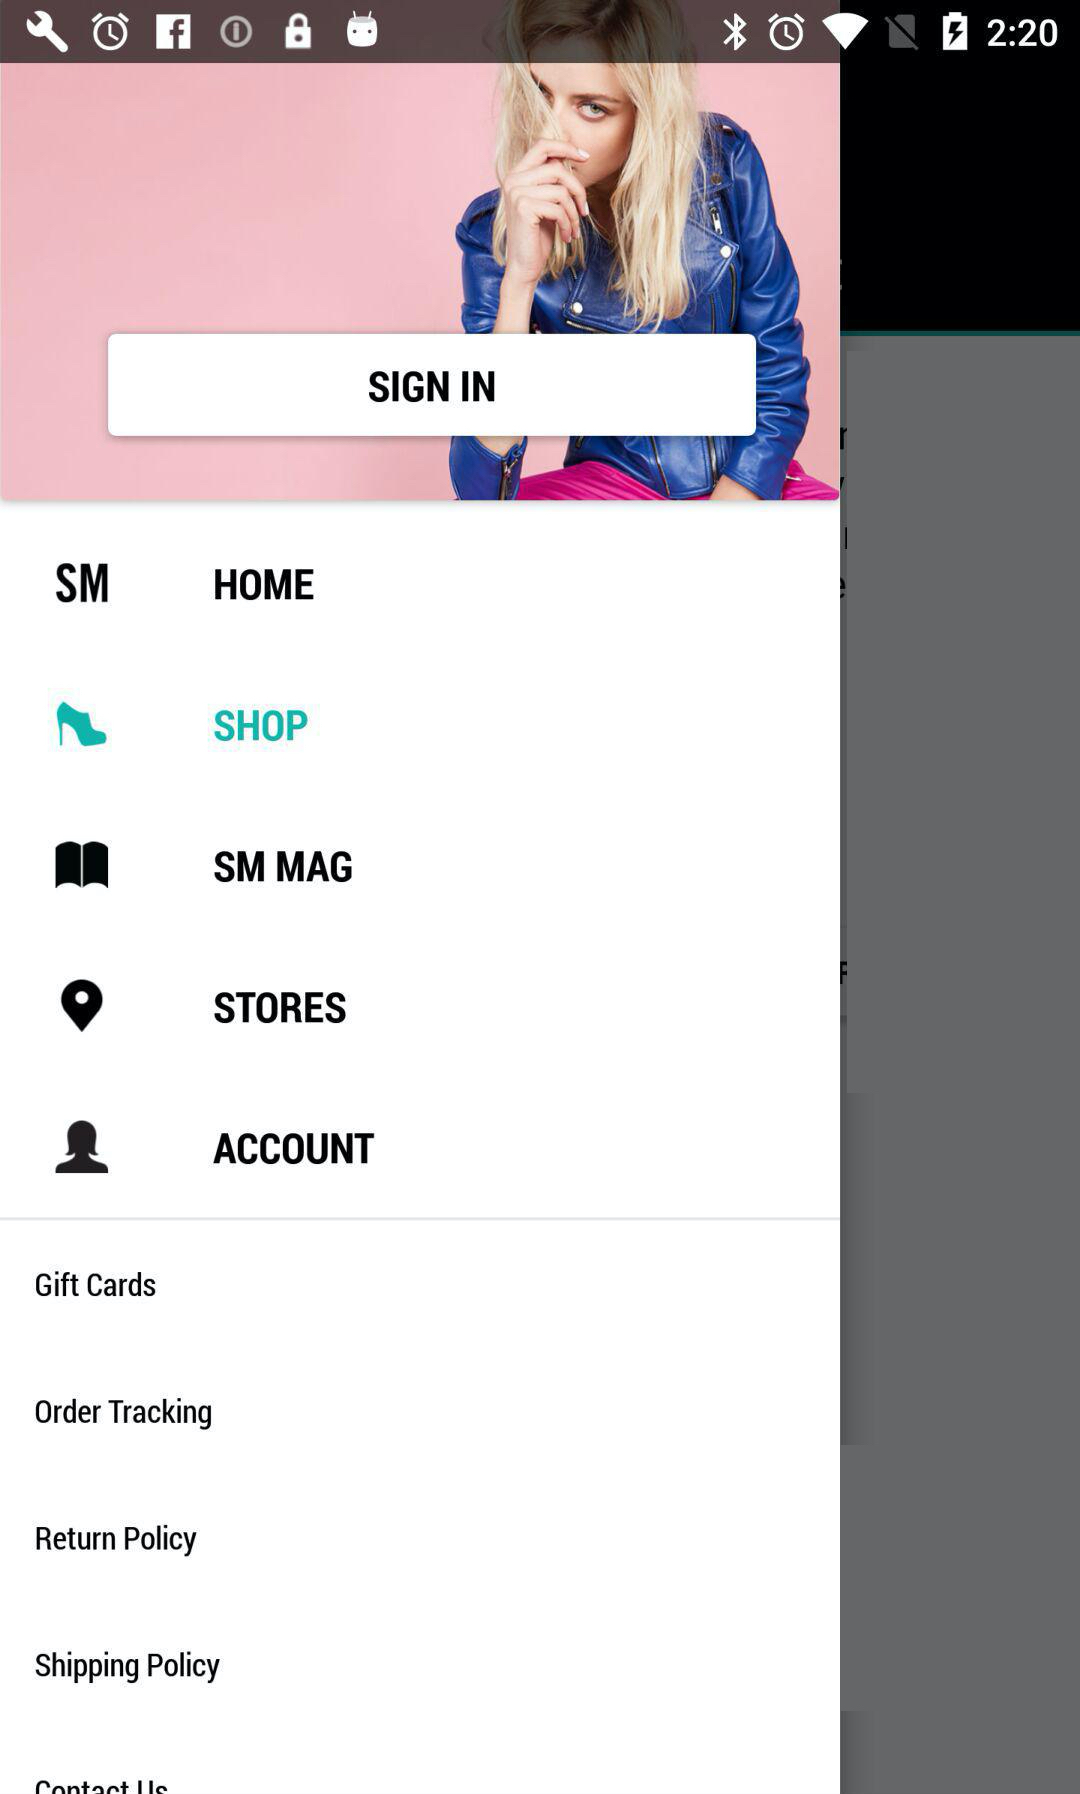Drawer: (1, 64, 840, 1794)
Icon: (55, 1120, 110, 1174), (55, 841, 110, 891), (61, 978, 105, 1034)
Image: (1, 64, 840, 501), (56, 701, 108, 748)
Text: (35, 1650, 222, 1685), (35, 1397, 213, 1431), (35, 1524, 199, 1558), (213, 1132, 375, 1166), (214, 850, 354, 884), (214, 991, 348, 1025), (214, 566, 316, 602), (36, 1270, 158, 1298), (214, 709, 309, 743), (56, 563, 110, 604), (36, 1779, 168, 1794)
TextButton: (108, 334, 757, 437)
UpperTaskBar: (1, 1, 1080, 64)
